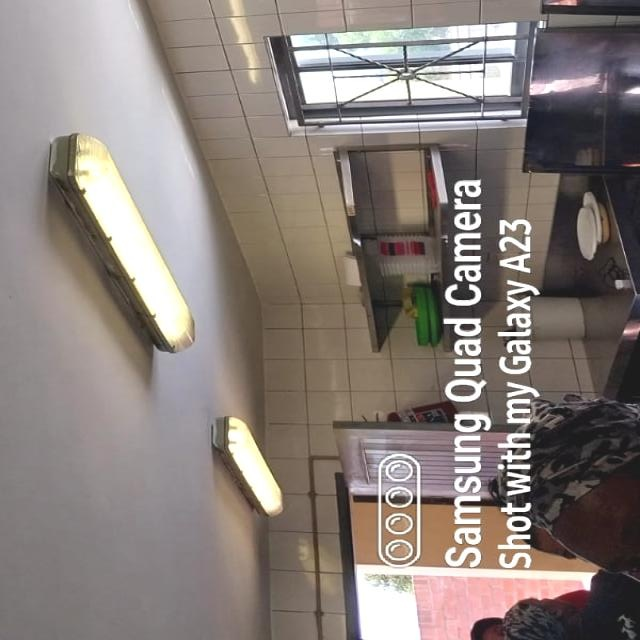fluorescent tube: (29, 119, 227, 397), (194, 405, 302, 540)
